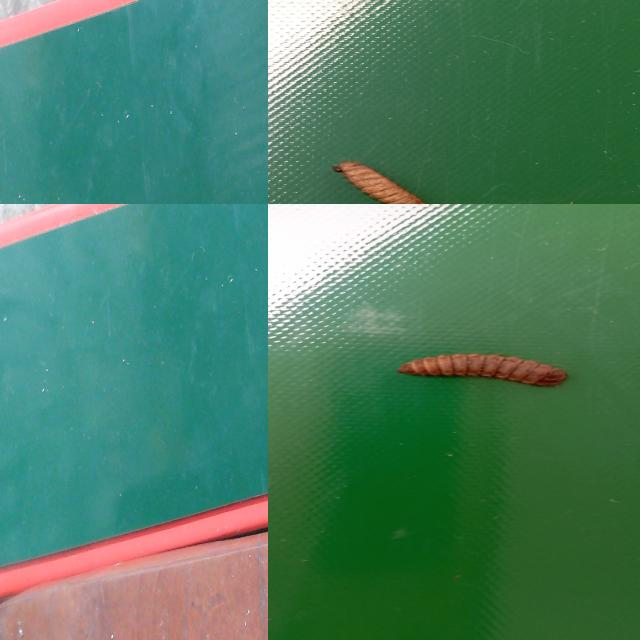Maggot: (398, 354, 569, 390), (334, 162, 427, 204)
